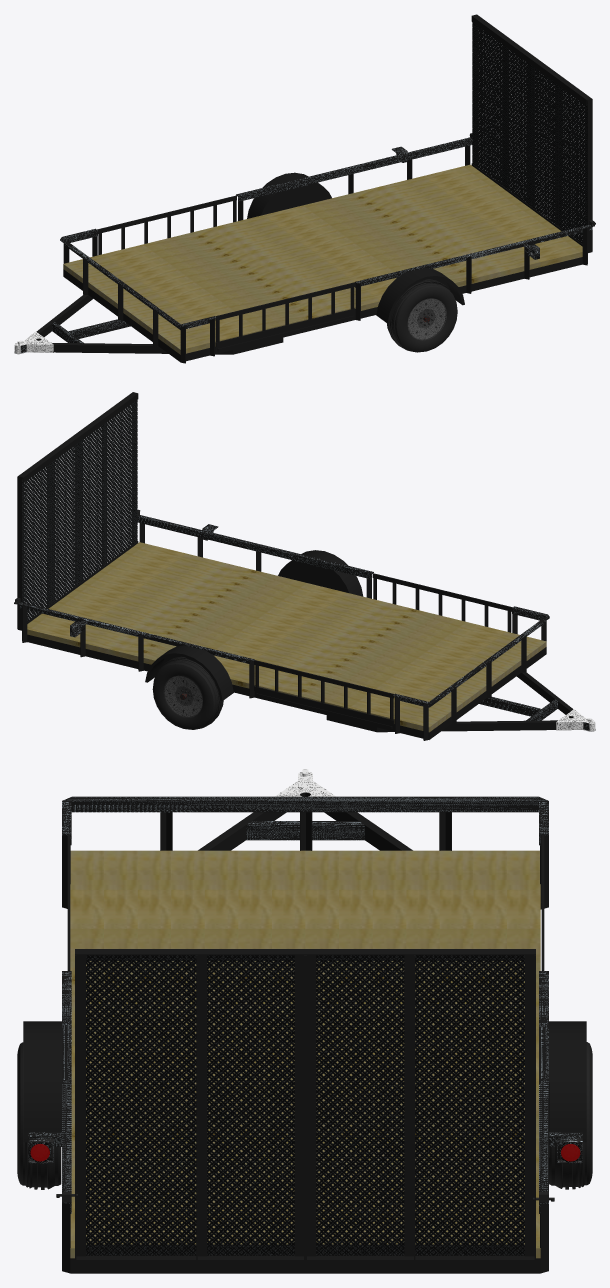
The picture shows the model from 3 angles, top to bottom: view 1: azimuth 30°, elevation 25°; view 2: azimuth 150°, elevation 25°; view 3: azimuth 270°, elevation 25°; orthographic projection. The views are drawn at different scales.
Visible parts, largest first — view 1: Fl (×15), TA (×2), AAA (×2), whhwe (×2), ff (×2), T1, RA (×3), F2 (×2), _7x14__utility_trailer (×2), AN, __A, wd (+1 smaller); view 2: Fl (×15), TA (×2), AAA (×2), whhwe (×2), ff (×2), T1, RA (×3), F2 (×2), _7x14__utility_trailer (×2), AN, __A, wd (+1 smaller); view 3: TA (×2), Fl (×14), __A (×6), ff (×2), wd, AN (×2), T1, AAA (×2), whhwe (×4), _7x14__utility_trailer (×2), F2 (×2).
Part boxes in pixels (<box>): Fl (×15): <box>64,164,582,354</box>; TA (×2): <box>472,22,587,243</box>; AAA (×2): <box>236,137,594,287</box>; whhwe (×2): <box>390,281,457,352</box>; ff (×2): <box>247,172,464,323</box>; T1: <box>63,257,582,362</box>; RA (×3): <box>97,195,355,346</box>; F2 (×2): <box>36,295,283,354</box>; _7x14__utility_trailer (×2): <box>14,319,130,353</box>; AN: <box>471,14,591,105</box>; __A: <box>586,99,592,252</box>; wd: <box>60,237,183,329</box>; Fl (×15): <box>27,542,546,732</box>; TA (×2): <box>22,400,137,621</box>; AAA (×2): <box>16,515,373,663</box>; whhwe (×2): <box>152,658,220,729</box>; ff (×2): <box>145,550,363,700</box>; T1: <box>27,634,546,739</box>; RA (×3): <box>254,573,512,724</box>; F2 (×2): <box>326,672,573,732</box>; _7x14__utility_trailer (×2): <box>479,697,595,731</box>; AN: <box>17,392,138,483</box>; __A: <box>17,477,23,629</box>; wd: <box>426,615,549,707</box>; TA (×2): <box>86,955,524,1255</box>; Fl (×14): <box>70,850,540,1248</box>; __A (×6): <box>75,955,535,1260</box>; ff (×2): <box>23,1021,586,1142</box>; wd: <box>62,796,548,812</box>; AN (×2): <box>75,949,535,1260</box>; T1: <box>70,1258,540,1273</box>; AAA (×2): <box>62,971,548,1213</box>; whhwe (×4): <box>17,1042,592,1189</box>; _7x14__utility_trailer (×2): <box>246,771,364,840</box>; F2 (×2): <box>198,792,412,850</box>.
Bounding box in the file's own units: 215 × 103 × 79.51.
24 materials, 4 textured.
